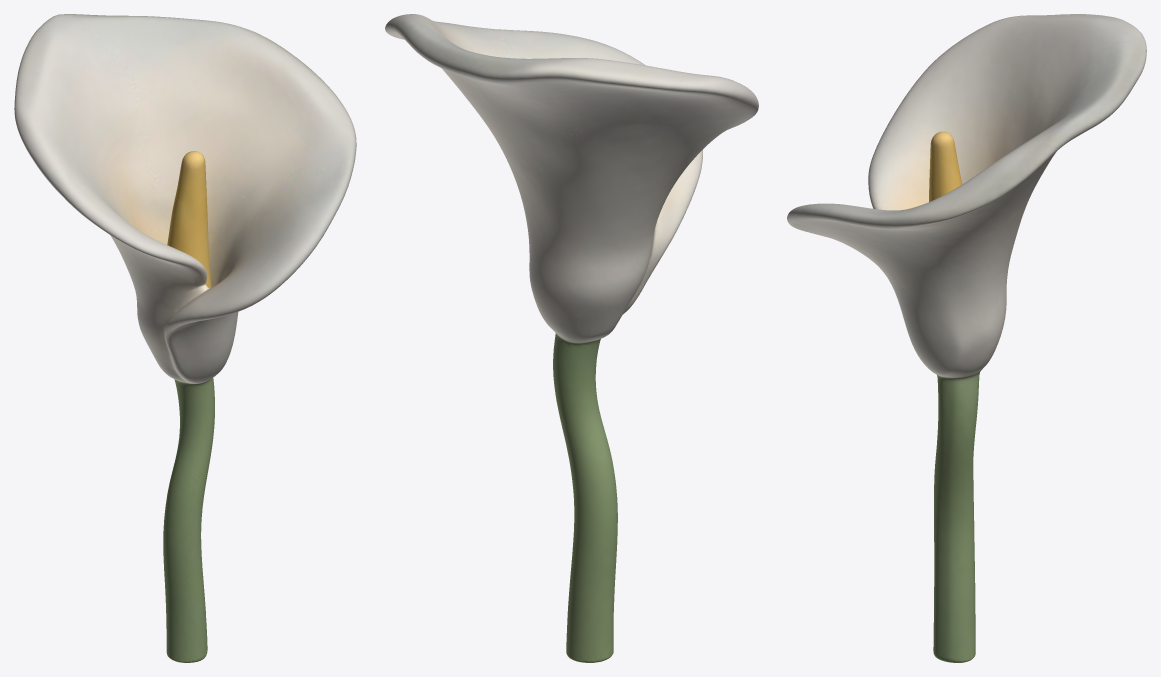
Rendered from longstem_calla.glb.
3 views of the same model, side by side, from view 1: azimuth 30°, elevation 25°; view 2: azimuth 150°, elevation 25°; view 3: azimuth 270°, elevation 25° (orthographic). The views are drawn at different scales.
Visible parts, largest first — view 1: model; view 2: model; view 3: model.
Part boxes in pixels (<box>): model: <box>14,14,356,662</box>; model: <box>385,14,758,662</box>; model: <box>787,14,1146,662</box>.
Bounding box in the file's own units: 1.03 × 1.9 × 1.02.
Materials: 1 (1 with a texture image).
